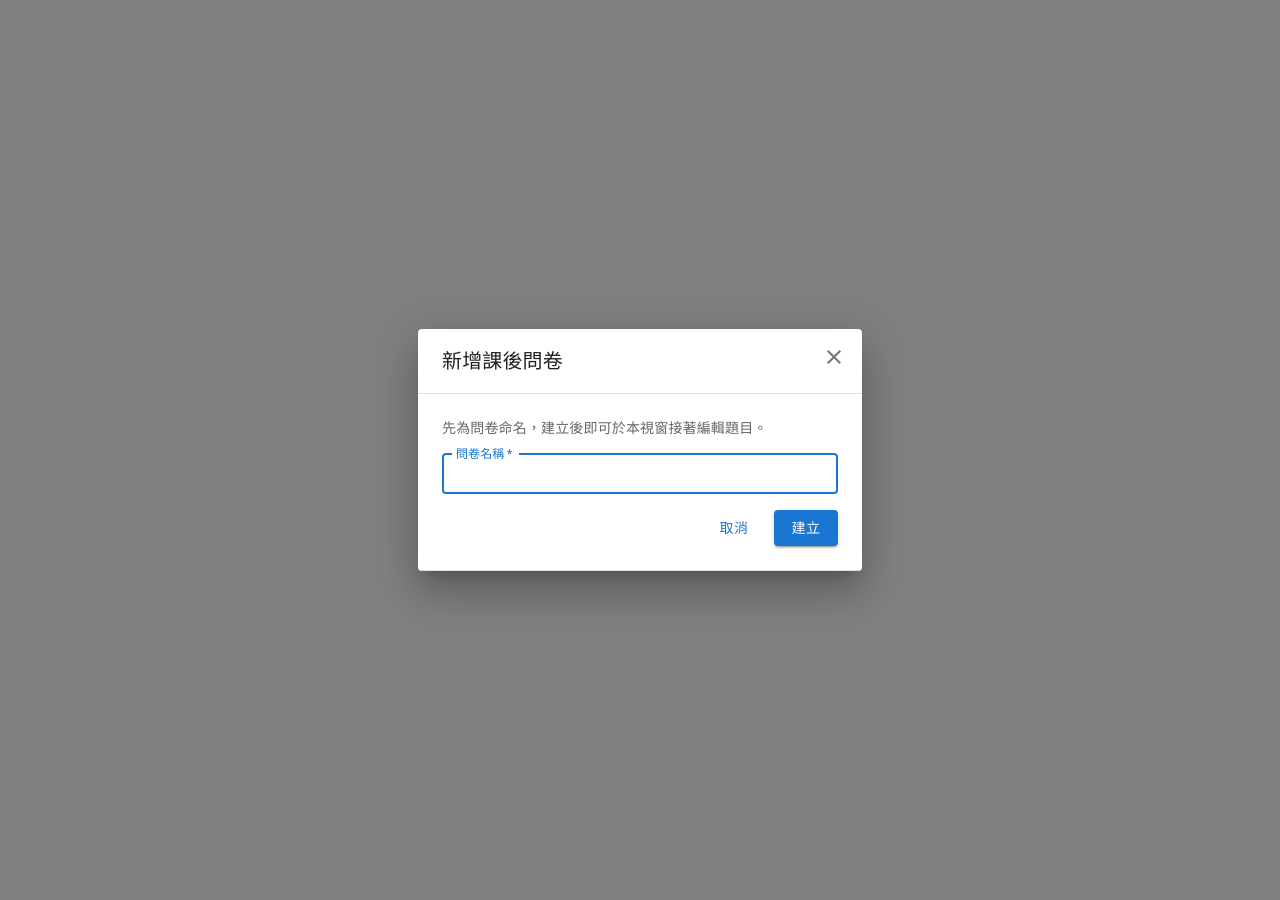
Test: SurveyDialog：建立步驟（#359 第 1 項） › 名稱留空按建立會擋下並提示
This screenshot has width=1280, height=900.
Click the button "建立" at (806, 528), box [774,510,838,546]
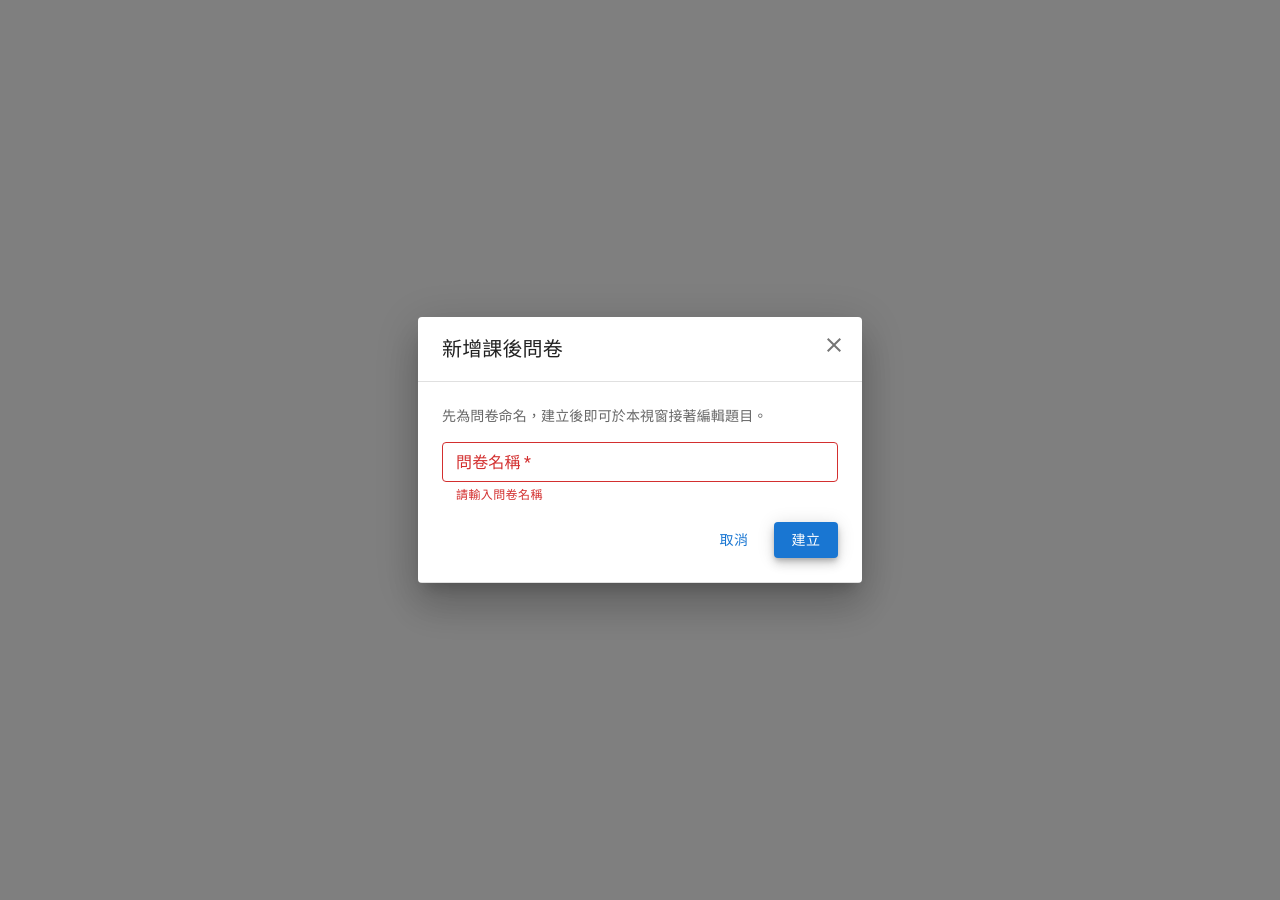
Result: the text "請輸入問卷名稱" is shown at [456,488,543,502]
